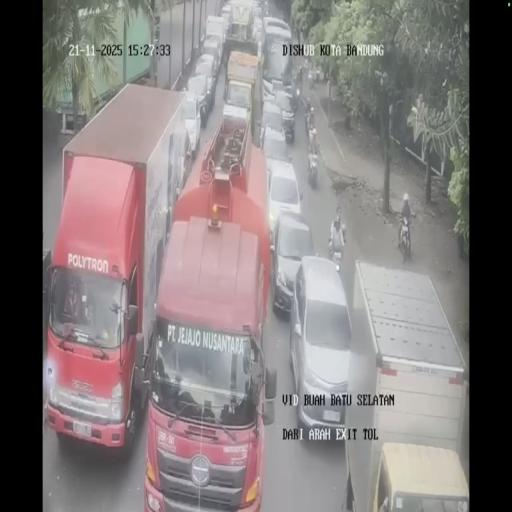car: (290, 258, 351, 437), (263, 153, 300, 242), (259, 101, 287, 152), (200, 36, 222, 79), (262, 79, 278, 106), (251, 14, 264, 46)
motorcycle: (398, 214, 414, 264), (330, 235, 346, 272), (307, 151, 318, 188), (305, 100, 315, 133)
truck: (46, 82, 196, 454), (339, 262, 468, 510)
